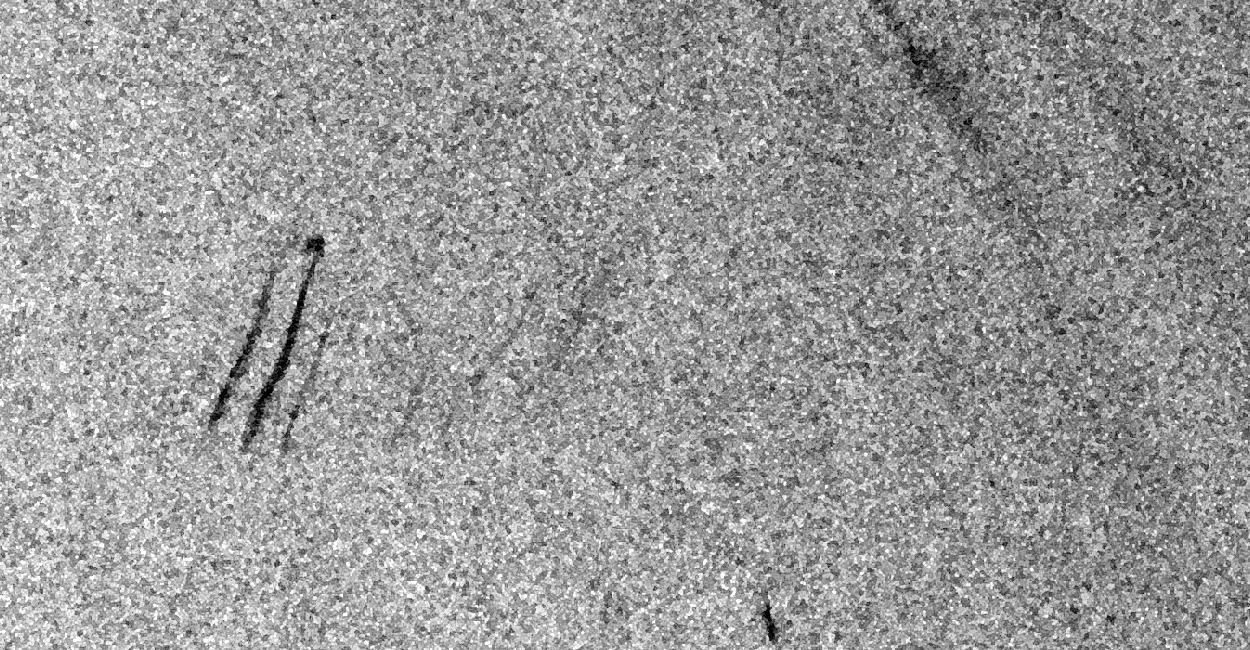Look-alike: (760, 0, 1004, 644)
Oil Spill: (238, 232, 326, 452), (206, 282, 274, 434), (282, 330, 332, 438)
